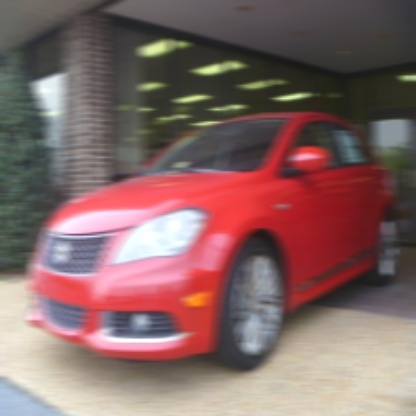Vehicle: (29, 109, 398, 372)
